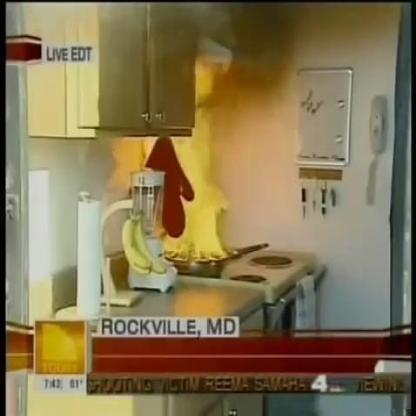fire: (145, 57, 230, 265)
